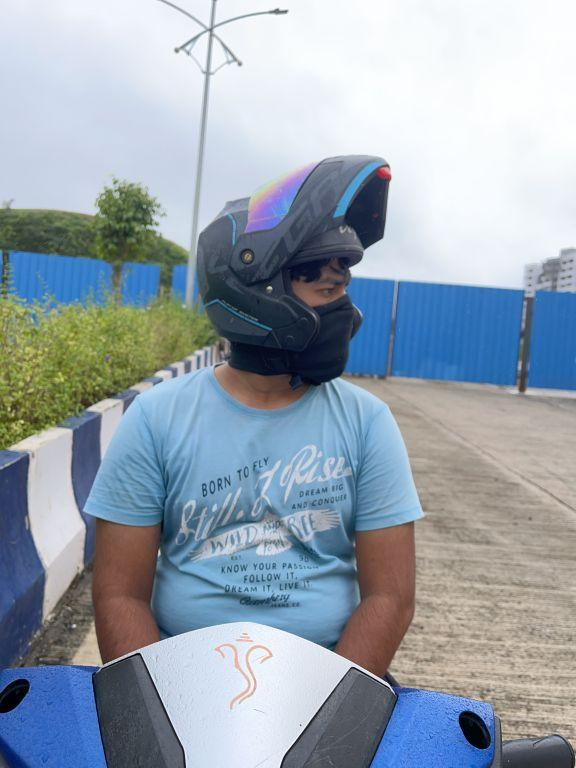helmet: (194, 144, 393, 383)
